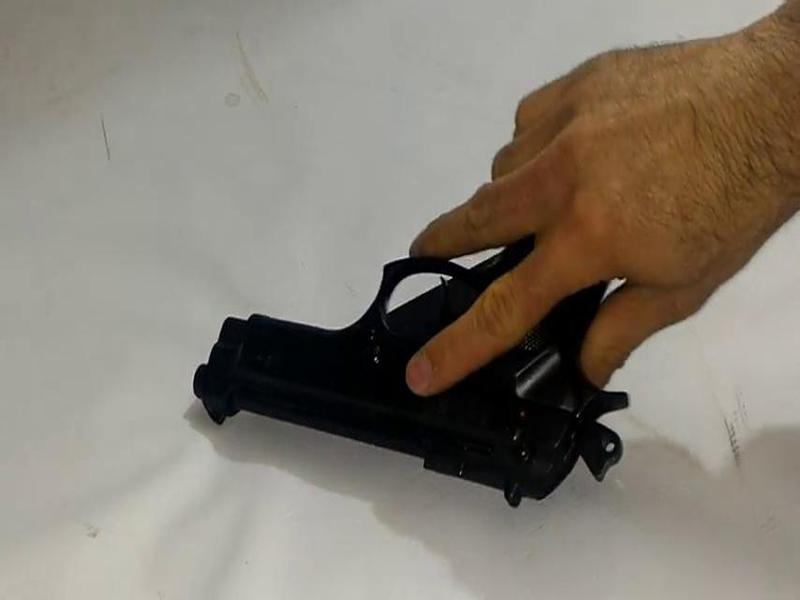Pistola: (151, 151, 687, 504)
